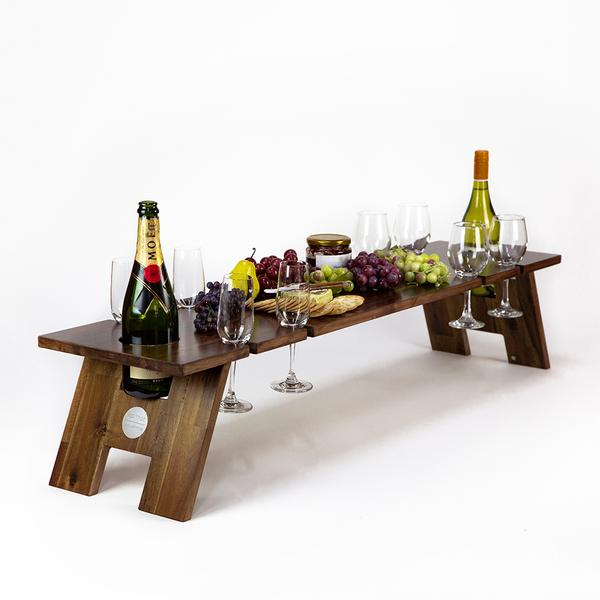bottle: (119, 196, 179, 398), (458, 144, 503, 300)
table: (37, 240, 563, 522)
